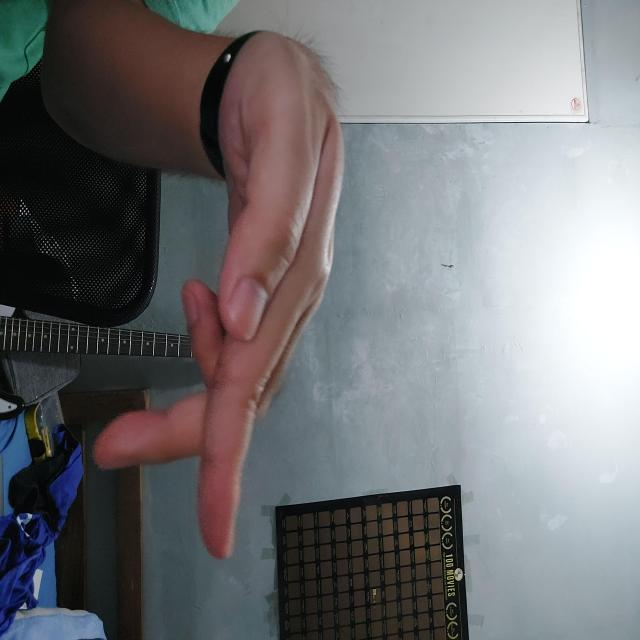P: (90, 69, 372, 568)
